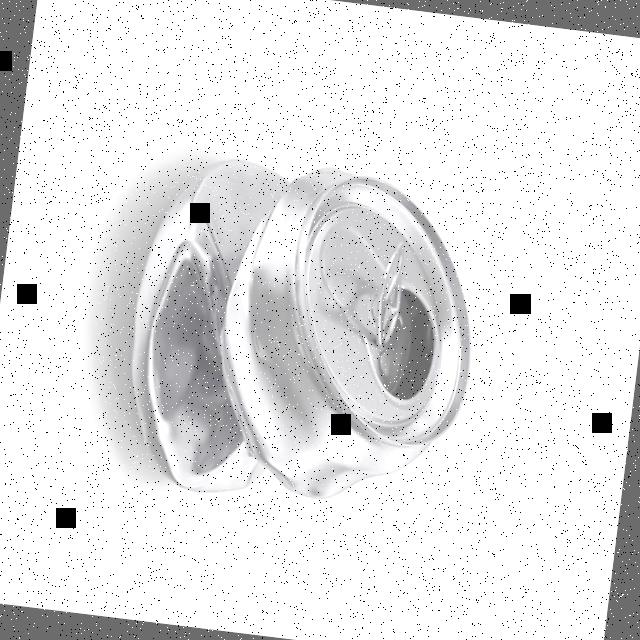can: (108, 139, 495, 525)
